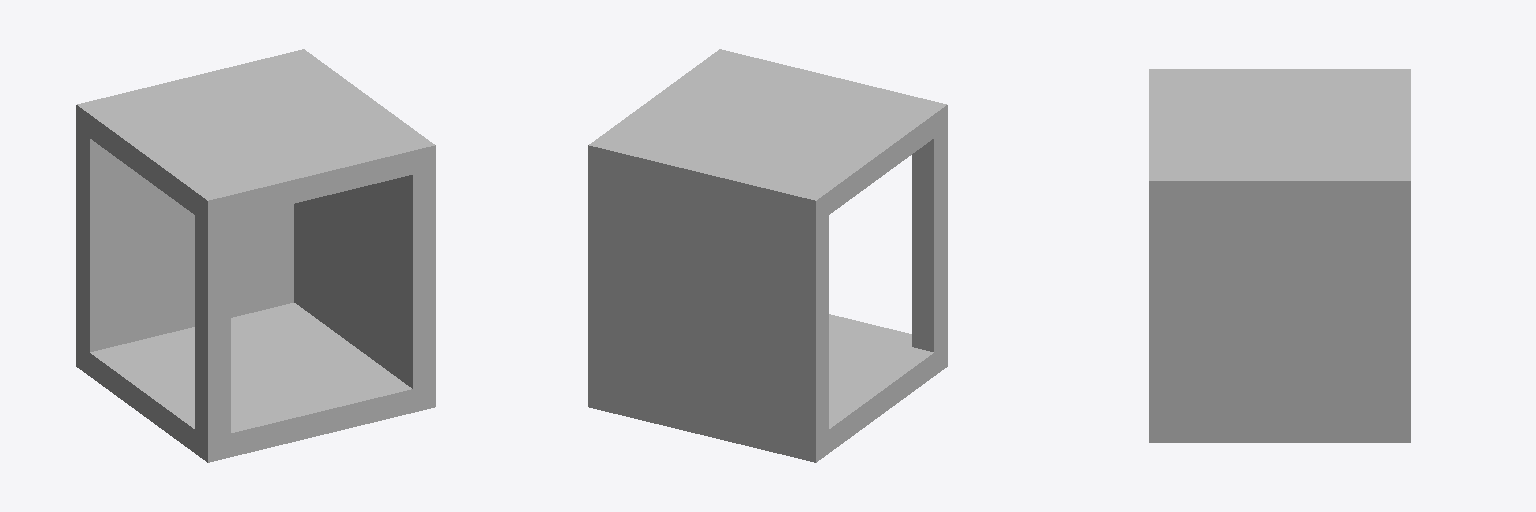
Rendered from wallSet_3.obj.
3 views of the same model, side by side, from view 1: azimuth 30°, elevation 25°; view 2: azimuth 150°, elevation 25°; view 3: azimuth 270°, elevation 25° (orthographic).
Visible parts, largest first — view 1: wallSet_3_Cube.025; view 2: wallSet_3_Cube.025; view 3: wallSet_3_Cube.025.
Part boxes in pixels (x1,y1,x2,y2): wallSet_3_Cube.025: (76,49,435,462); wallSet_3_Cube.025: (588,49,947,462); wallSet_3_Cube.025: (1149,69,1410,442).
Bounding box in the file's own units: 2 × 2.2 × 2.